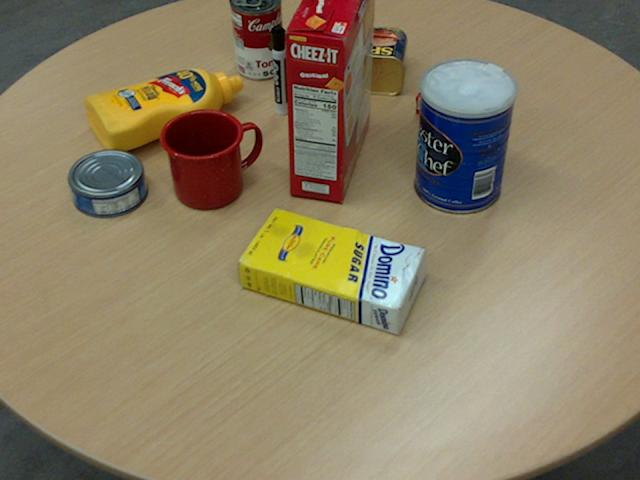cracker_box: (284, 0, 376, 201)
gelatin_box: (416, 64, 500, 129)
large_marker: (271, 24, 288, 113)
master_chef_can: (414, 58, 517, 214)
mug: (158, 107, 260, 207)
mustard_bottle: (85, 66, 243, 150)
potted_meat_can: (327, 24, 408, 94)
sugar_box: (234, 207, 426, 335)
tomato_soup_can: (232, 0, 285, 76)
tuna_fish_can: (67, 146, 146, 214)
